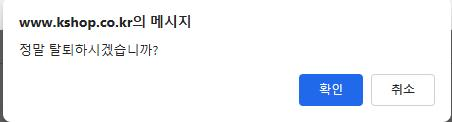button: (299, 75, 364, 107), (372, 75, 435, 105)
